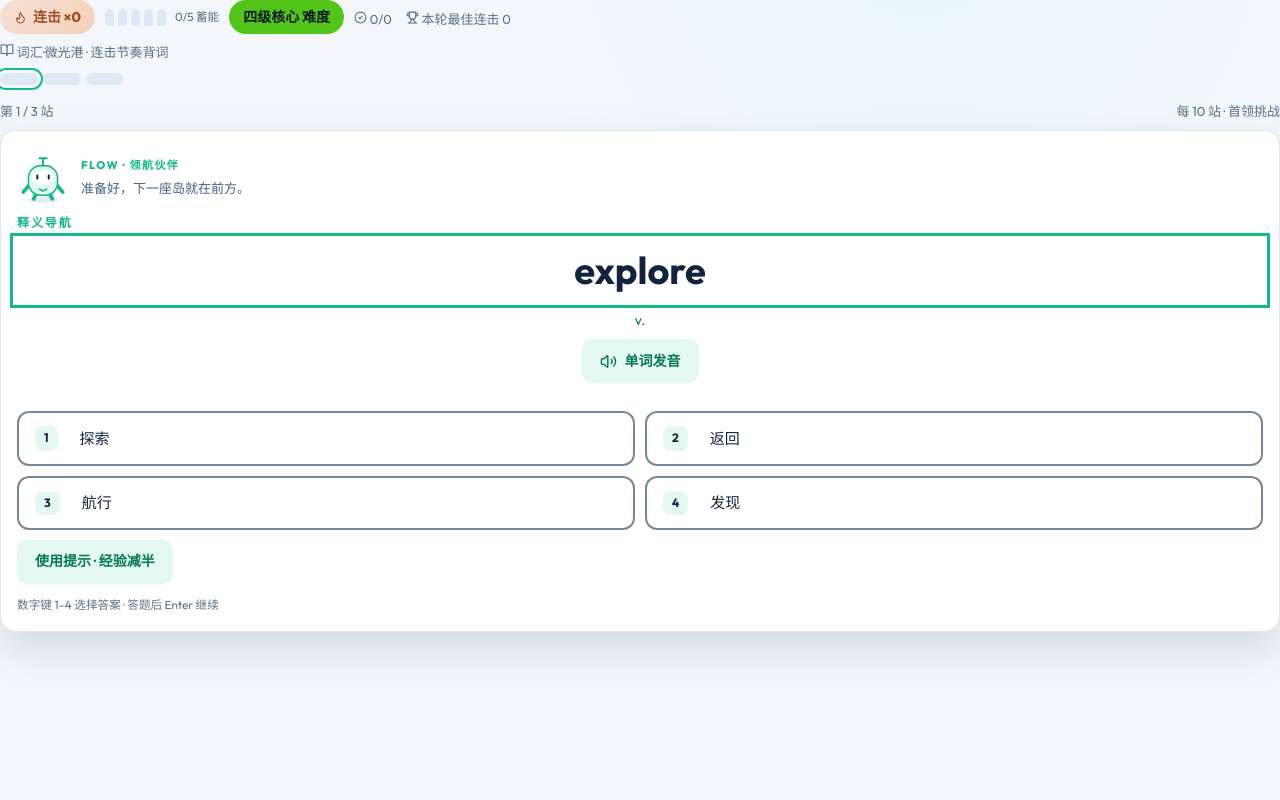
Scenario: real vocabulary mission › converts an inaudible listening stop into an answerable meaning question
Click the button "1 探索".
click(95, 438)  # box top-left (17, 411), bottom-right (635, 466)
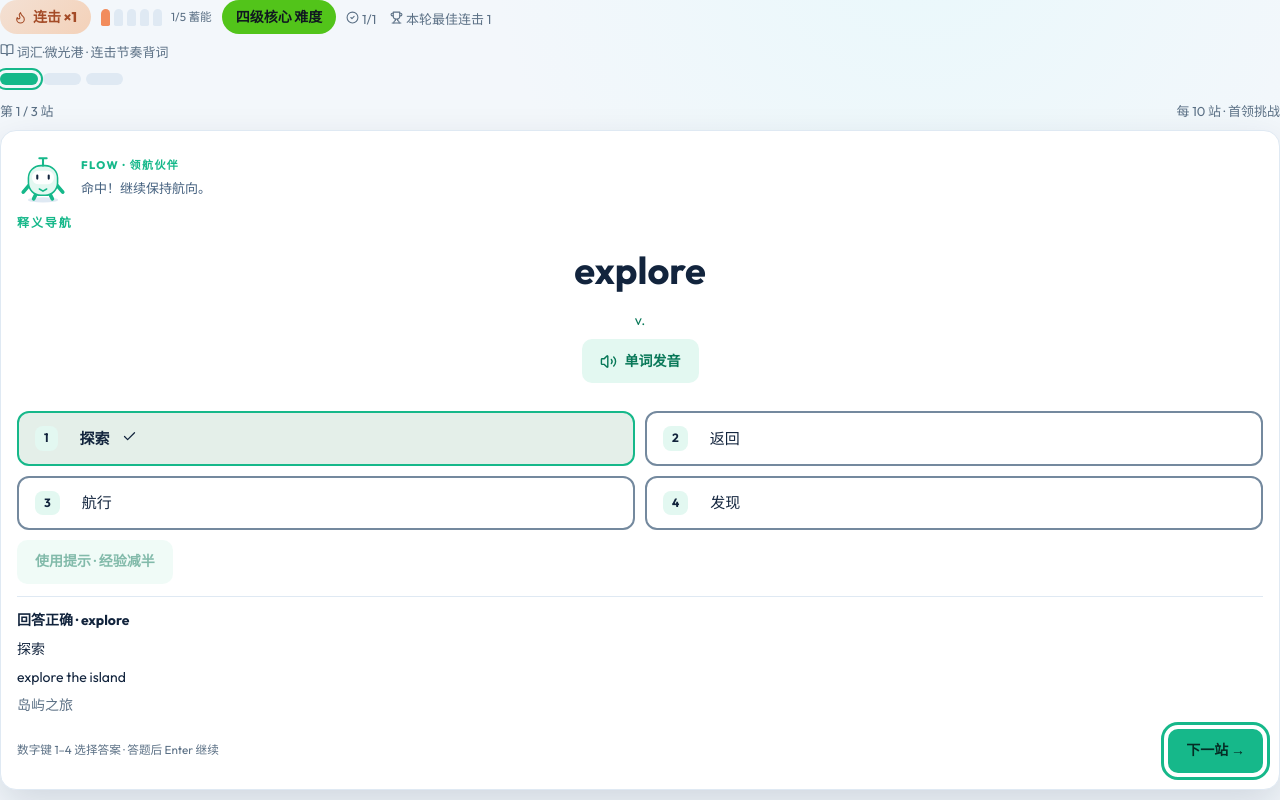
Now the button "下一站 →" is enabled
Click the button "下一站 →".
click(1216, 751)  # box top-left (1168, 729), bottom-right (1263, 773)
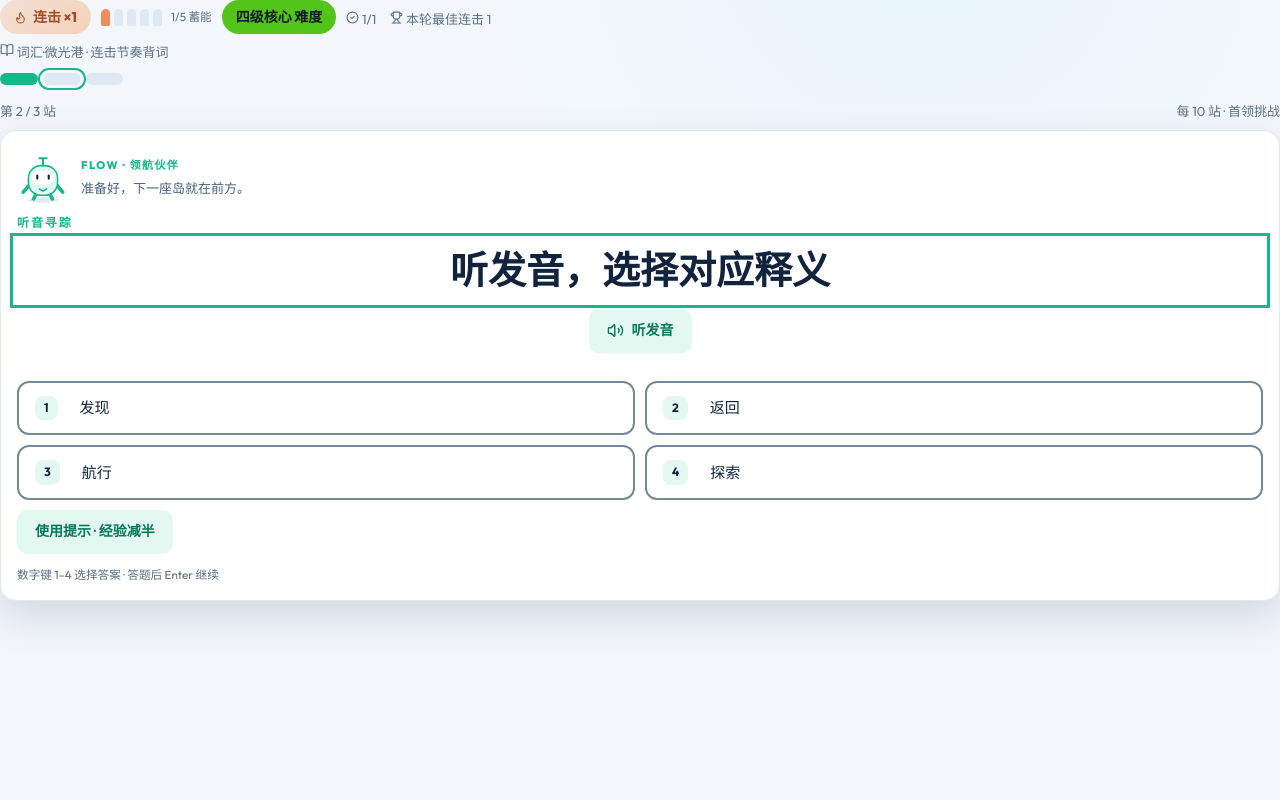
Expected: the heading "discover" is not shown
Click the button with aria-label "播放单词发音".
click(640, 331)  # box top-left (588, 309), bottom-right (692, 353)
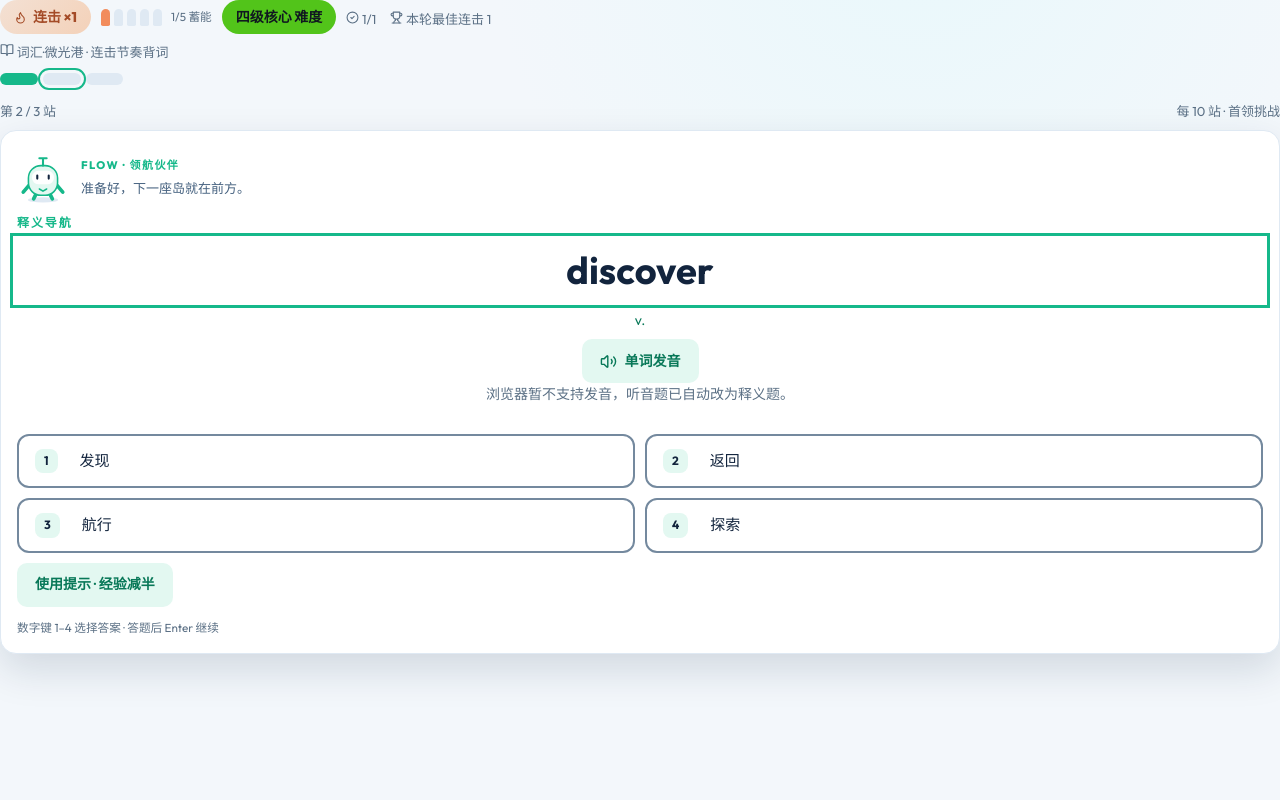
Now the button "1 发现" is enabled, box top-left (17, 434), bottom-right (635, 488)
Now the heading "discover" is shown, box top-left (566, 246), bottom-right (714, 294)
